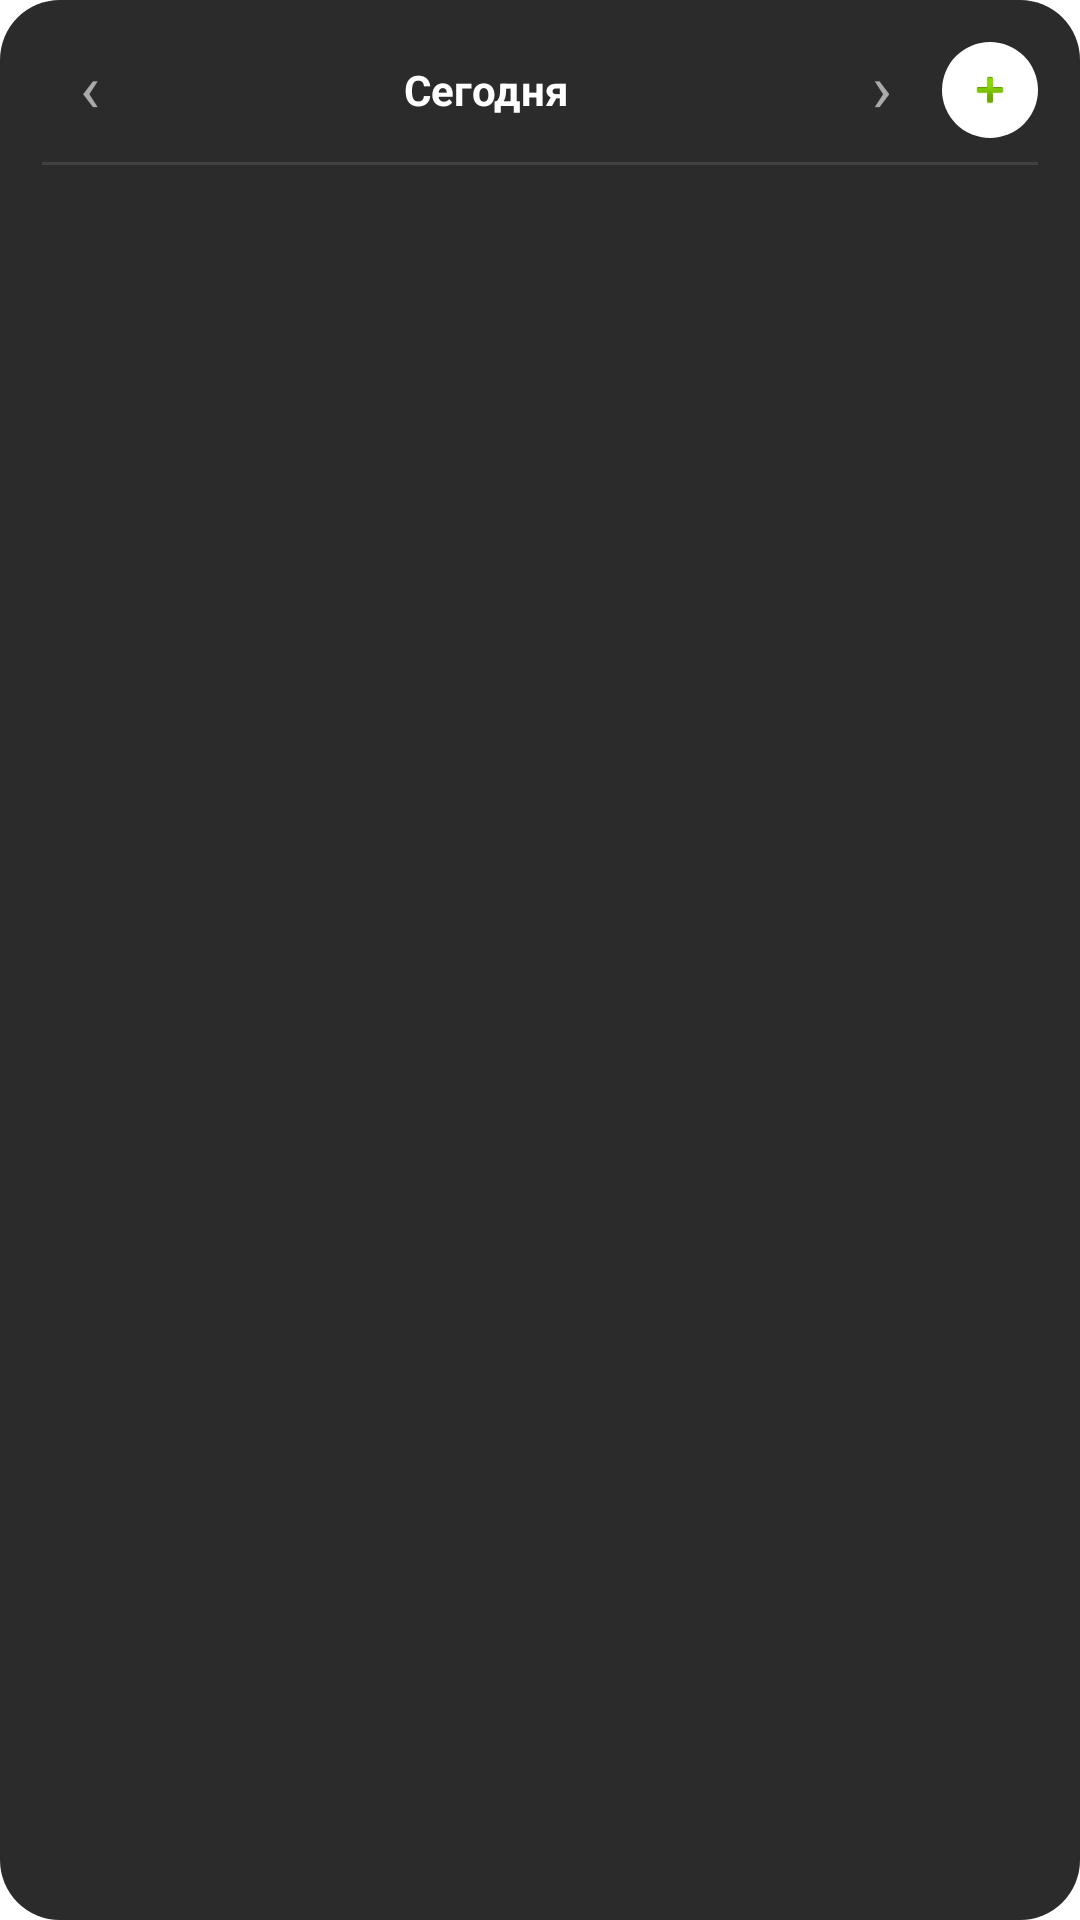

Where to tap for icons on this 1080*1920 app screen, as [x,y]:
add: [990,90]
